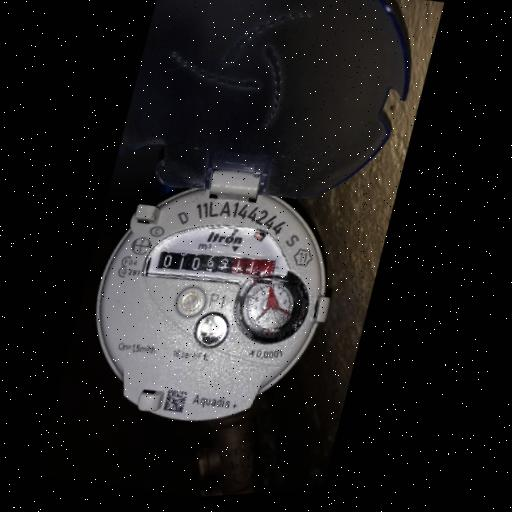0: (160, 250, 175, 270), (189, 253, 203, 273)
1: (175, 251, 190, 271), (245, 257, 259, 277), (231, 257, 245, 276)
6: (258, 257, 275, 279), (203, 254, 218, 274)
9: (217, 255, 231, 274)
border_water_meter_number: (138, 203, 302, 304)
